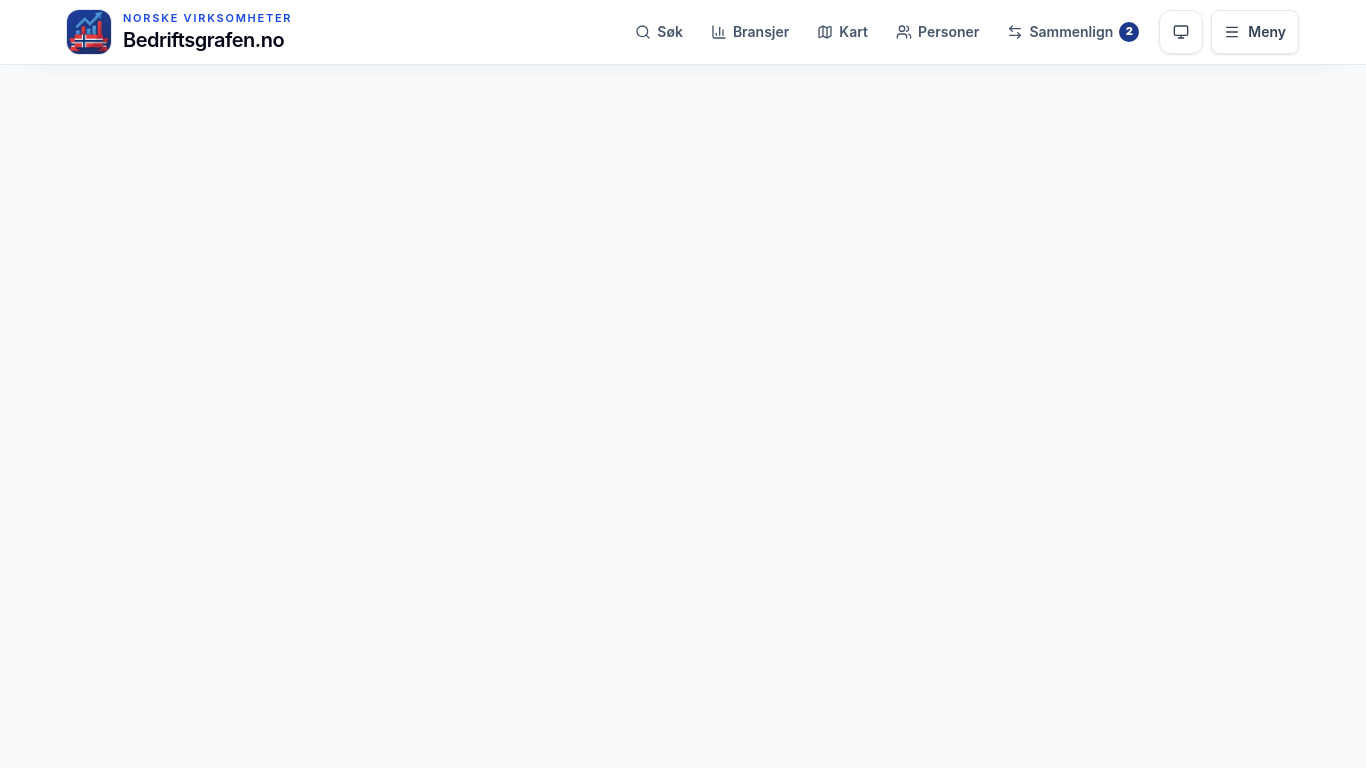
Test: Header › shows a comparison count badge in header links when companies are selected
The image size is (1366, 768).
Click the button with aria-label "Åpne meny" at [1255, 32], box [1211,10,1299,54]
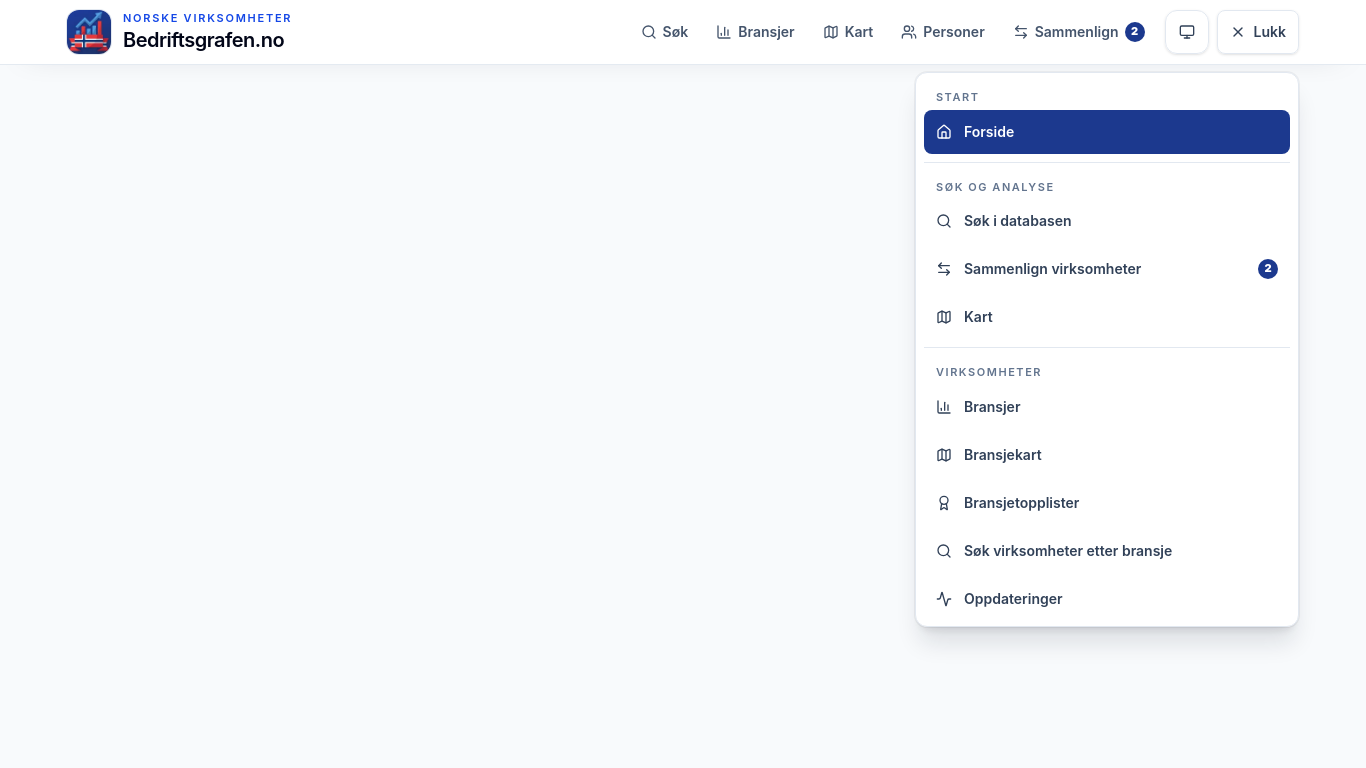
expect the link with aria-label "Sammenlign virksomheter (2 valgt)" is shown: met, box [936,259,1278,279]
